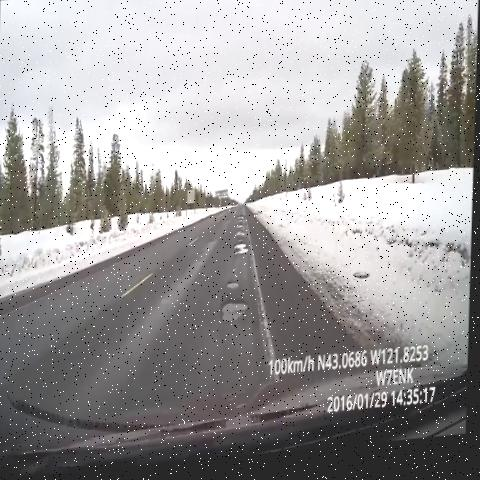pothole: (216, 296, 253, 332), (233, 210, 247, 248), (222, 282, 249, 301), (232, 242, 254, 265)
